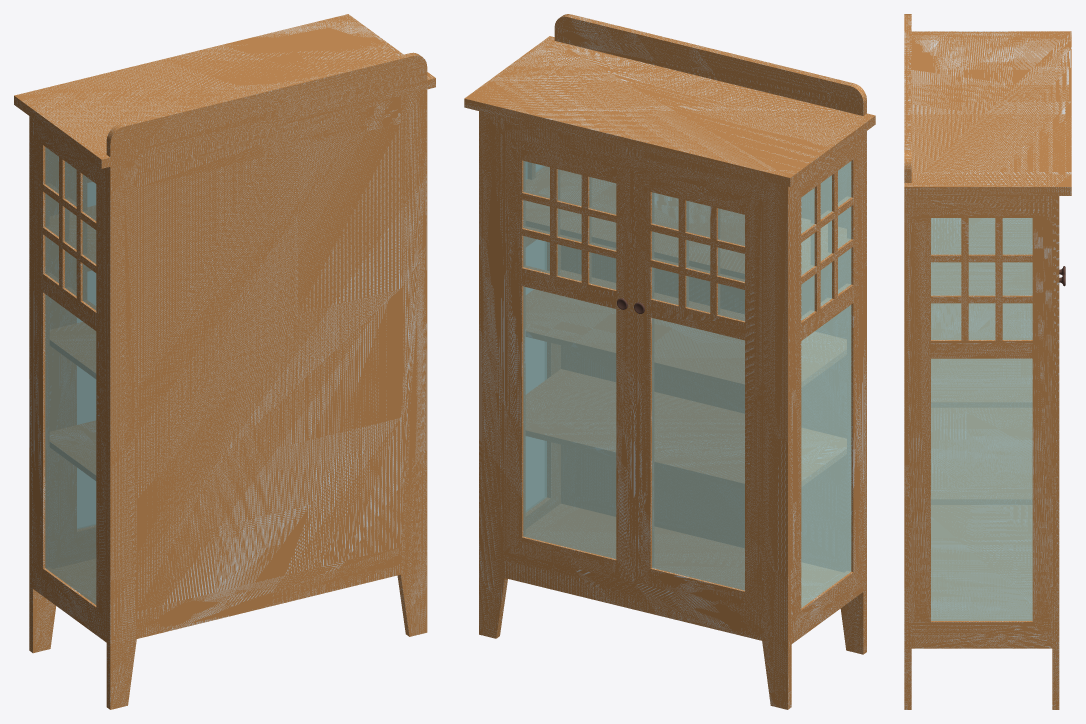
3 views of the same model, side by side, from view 1: azimuth 30°, elevation 25°; view 2: azimuth 150°, elevation 25°; view 3: azimuth 270°, elevation 25° (orthographic). The views are drawn at different scales.
Visible parts, largest first — view 1: mesh10_mesh10-geometry; view 2: mesh10_mesh10-geometry; view 3: mesh10_mesh10-geometry.
Part boxes in pixels (x1,y1,x2,y2): mesh10_mesh10-geometry: (14,14,435,709); mesh10_mesh10-geometry: (464,14,875,709); mesh10_mesh10-geometry: (904,14,1071,709).
Bounding box in the file's own units: 0.5029 × 0.8337 × 0.2283.
